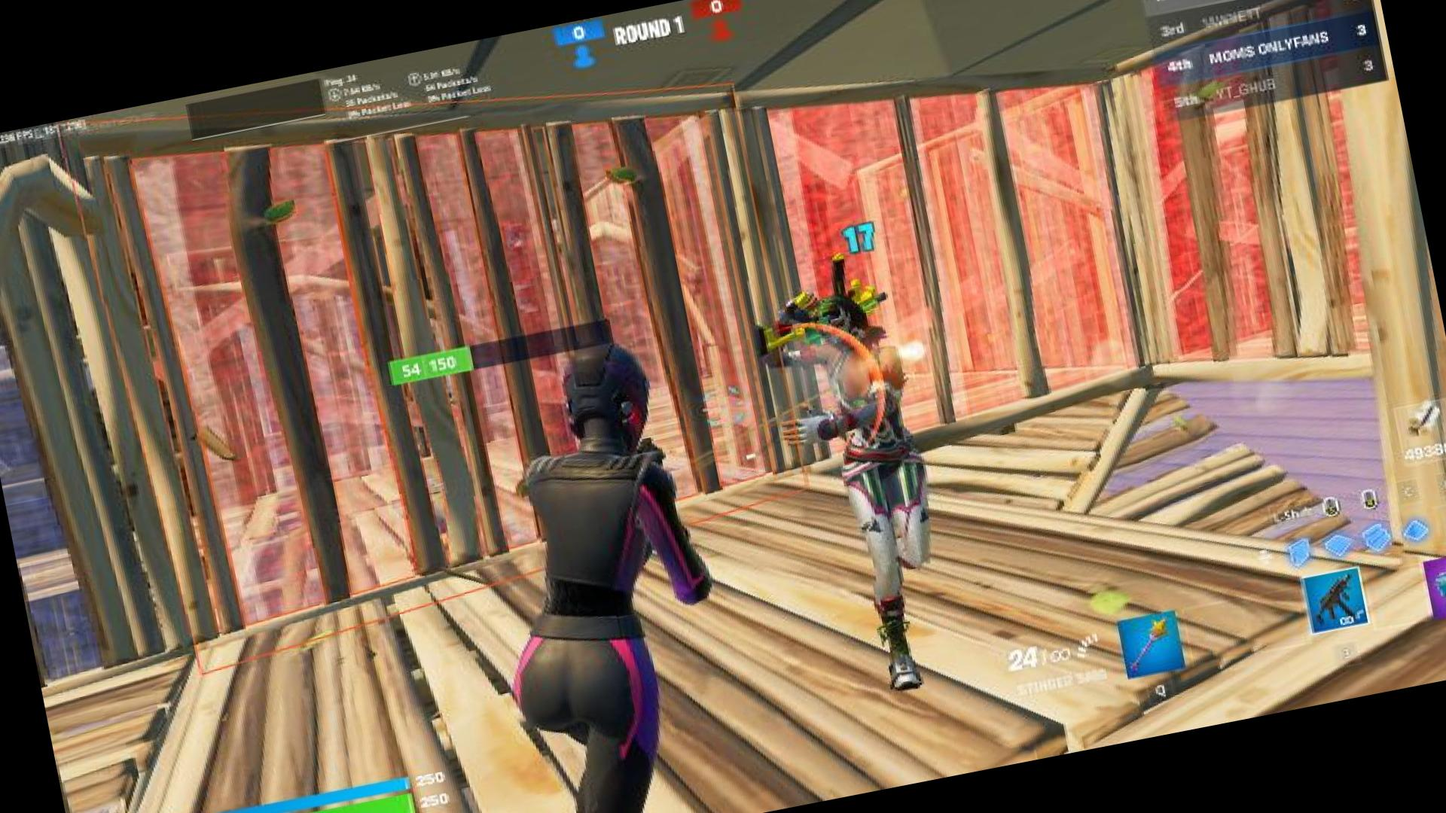player: (749, 261, 1008, 730)
